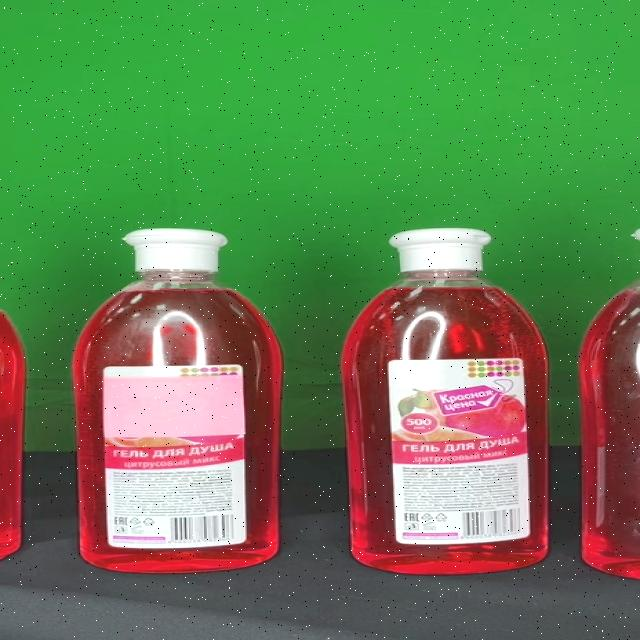Bottle: (73, 228, 284, 573), (344, 228, 547, 574)
Cap: (122, 228, 227, 272), (388, 228, 492, 270)
